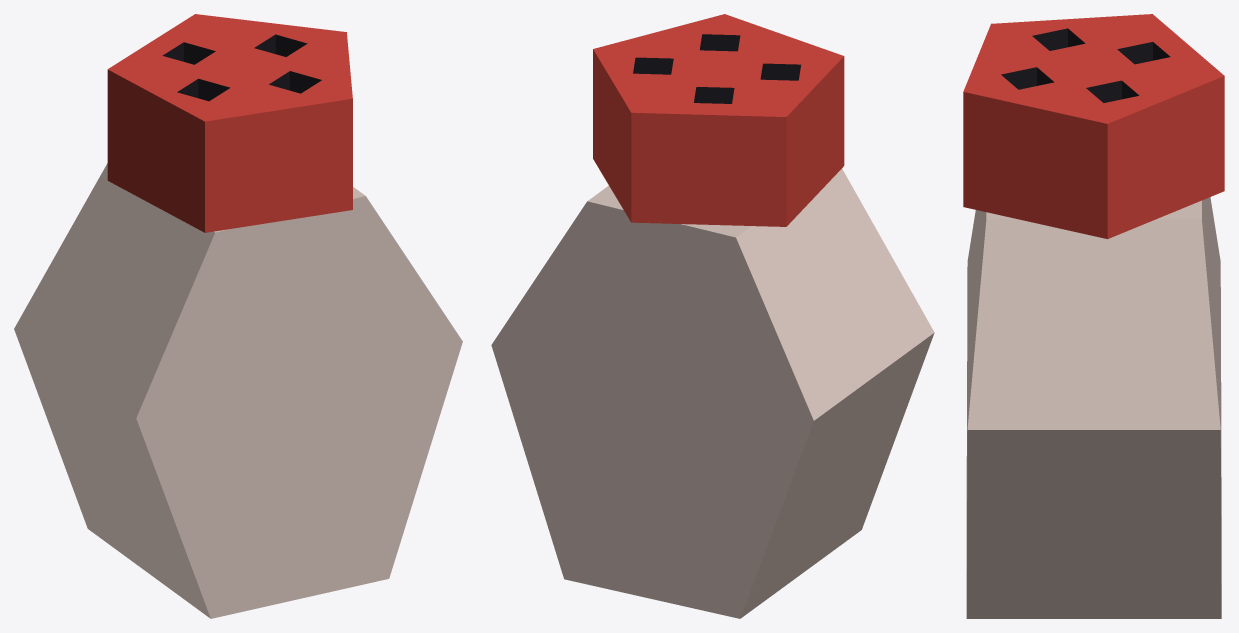
The model's file is Salt.fbx.
The picture shows the model from 3 angles, left to right: view 1: azimuth 30°, elevation 25°; view 2: azimuth 150°, elevation 25°; view 3: azimuth 270°, elevation 25°; orthographic projection. The views are drawn at different scales.
Visible parts, largest first — view 1: Salt; view 2: Salt; view 3: Salt.
Boxes of the visible parts, box(x1,y1,x2,y2) form: Salt: box(14, 14, 462, 618); Salt: box(491, 14, 934, 618); Salt: box(963, 14, 1224, 618).
Size of the model in its own units: 30.46 by 43.7 by 20.37.
